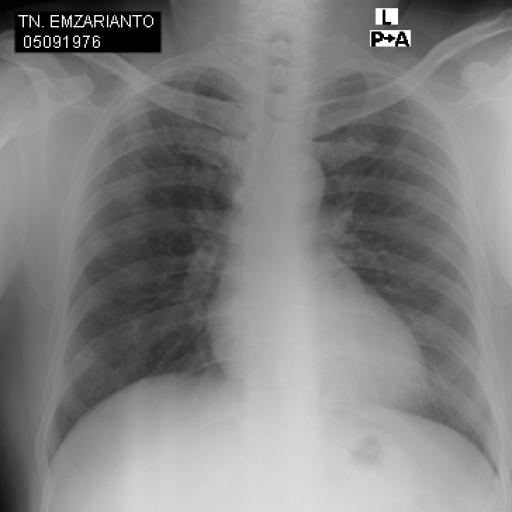kardiomegali: (36, 30, 508, 482)
